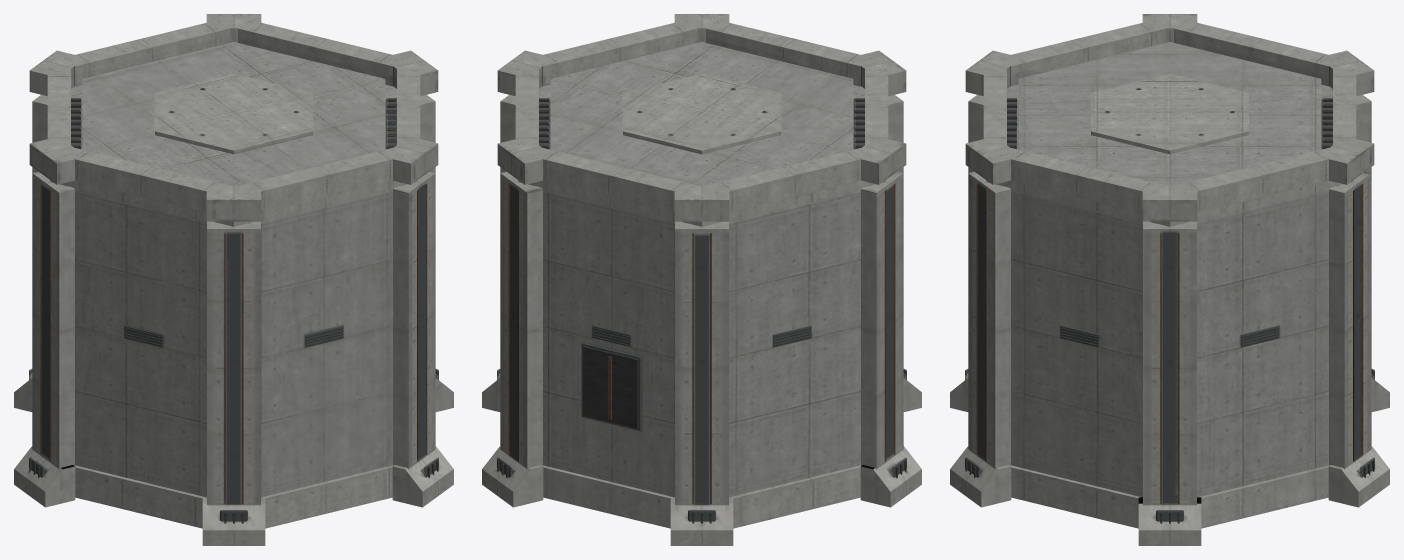
File: terminal.glb
3 views of the same model, side by side, from view 1: azimuth 30°, elevation 25°; view 2: azimuth 150°, elevation 25°; view 3: azimuth 270°, elevation 25° (orthographic).
Visible parts, largest first — view 1: terminal-geometry0, terminal-geometry1.001; view 2: terminal-geometry0, terminal-geometry1.001; view 3: terminal-geometry0, terminal-geometry1.001.
Part boxes in pixels (x1,y1,x2,y2): terminal-geometry0: (18,15,448,544); terminal-geometry1.001: (14,14,453,545); terminal-geometry0: (486,15,917,544); terminal-geometry1.001: (482,14,921,545); terminal-geometry0: (954,15,1384,544); terminal-geometry1.001: (950,14,1389,545).
Bounding box in the file's own units: 68.04 × 54 × 63.43.
7 materials, 7 textured.
